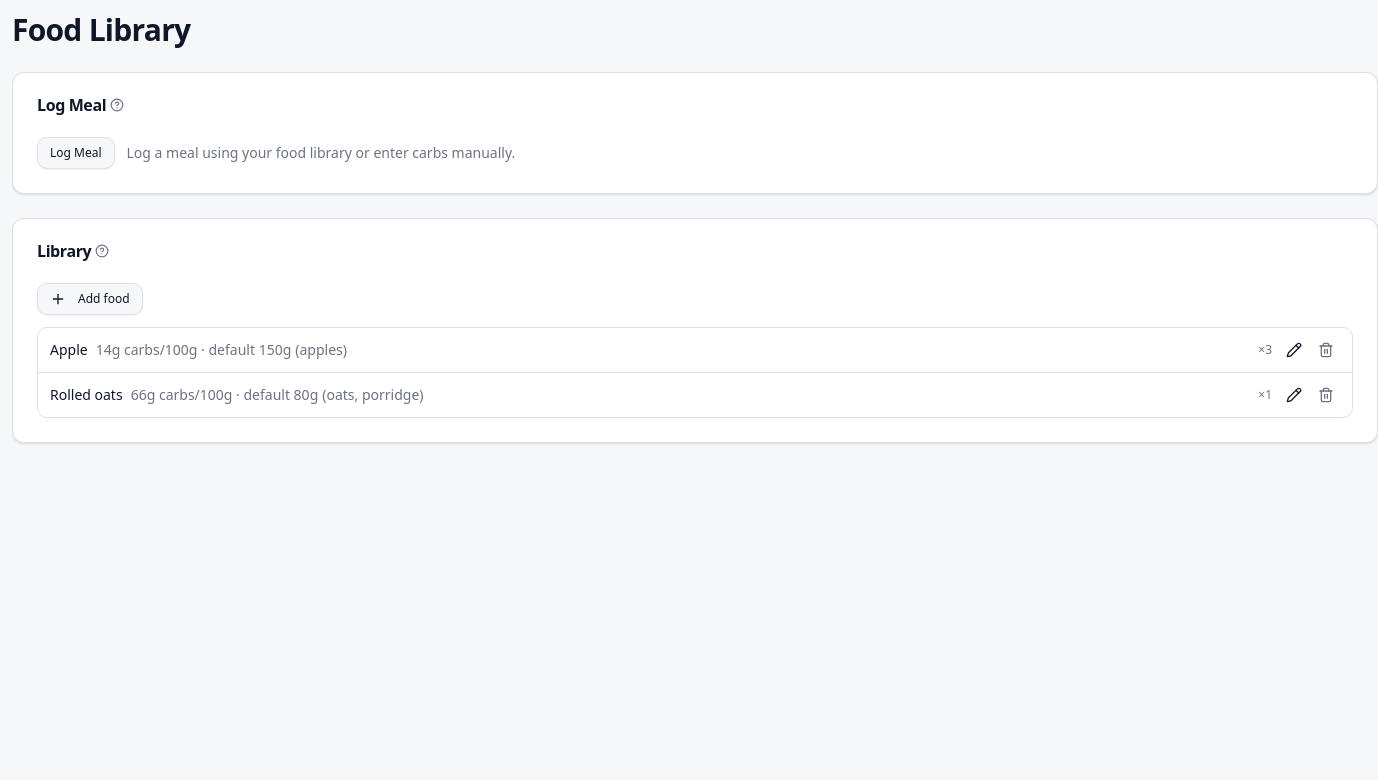
Test: Food Library page — Library section › opens add form on "Add food" click
What coordinates should you click on to do the following:
click the button "Add food"
I would click on:
 (90, 299)
Its box is [37,283,143,315].
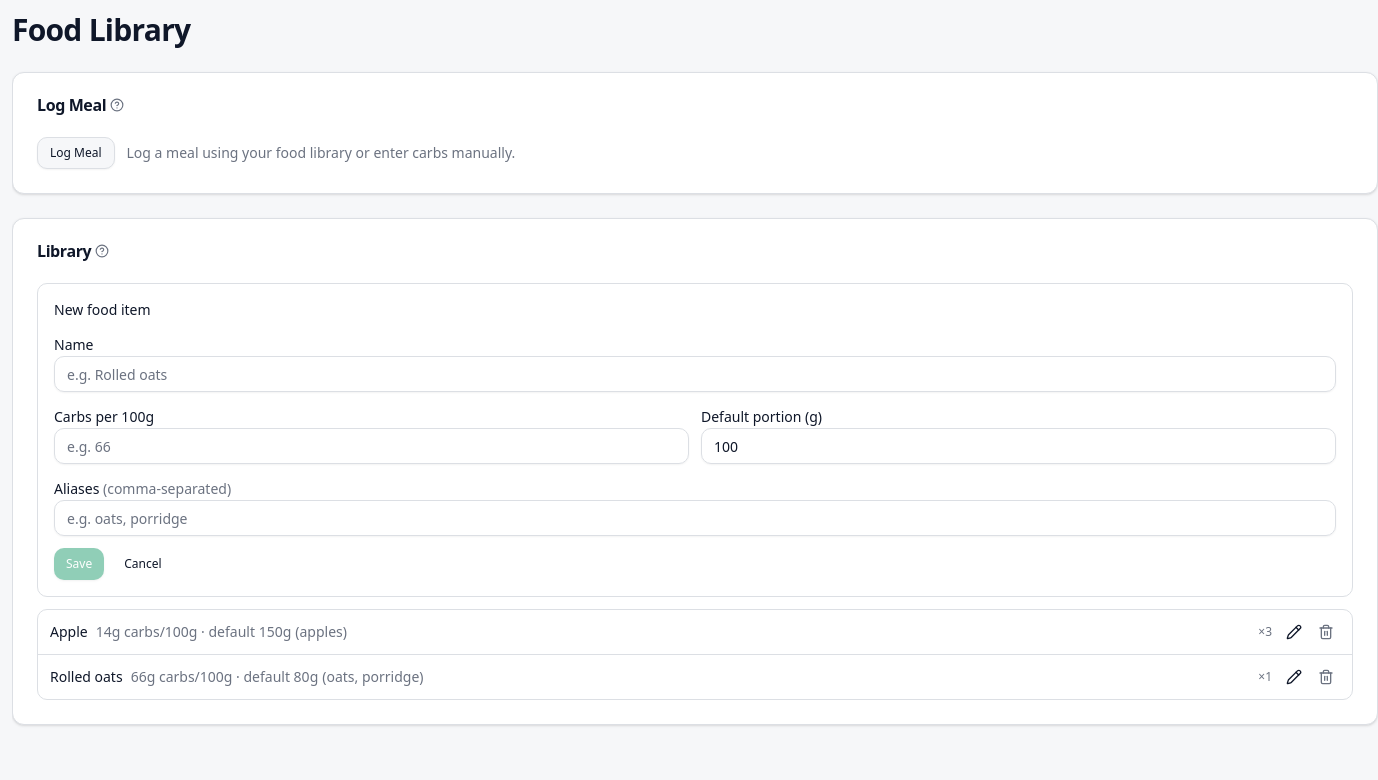
expect the field labelled "Name" is shown: met, box [54,356,1336,392]
